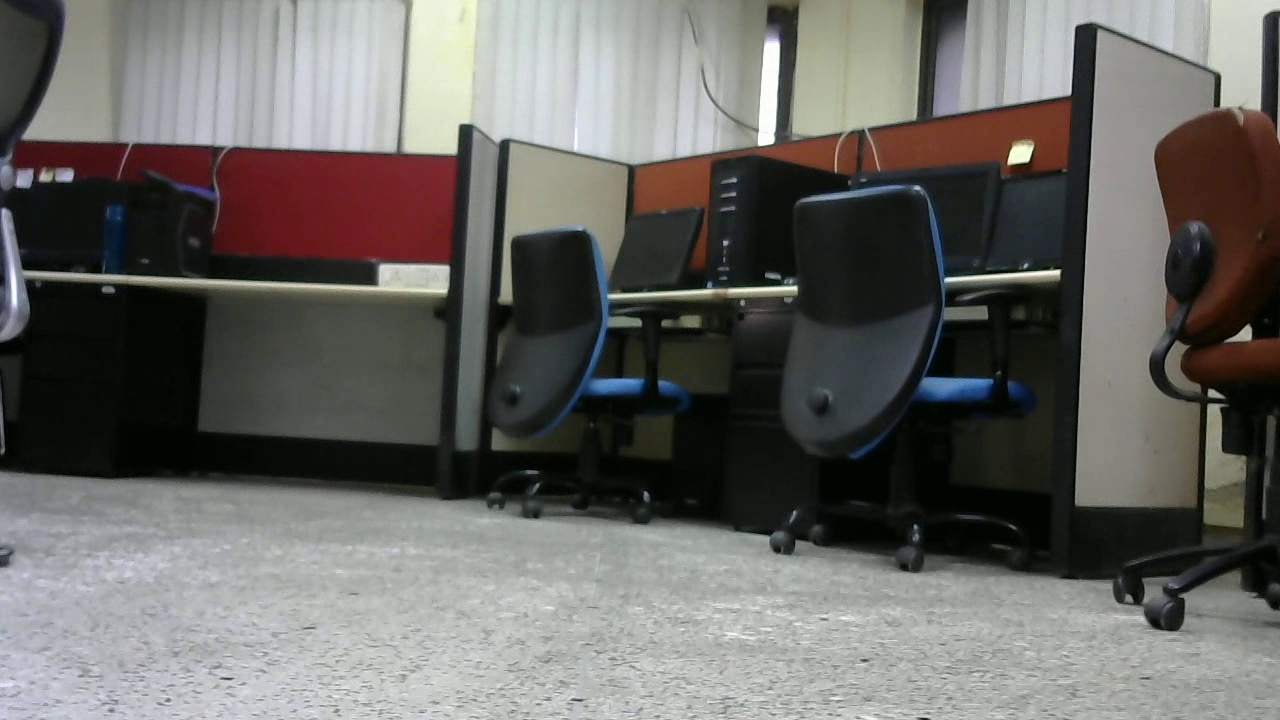chair: (780, 195, 1041, 576), (1133, 100, 1280, 628), (486, 225, 690, 530)
